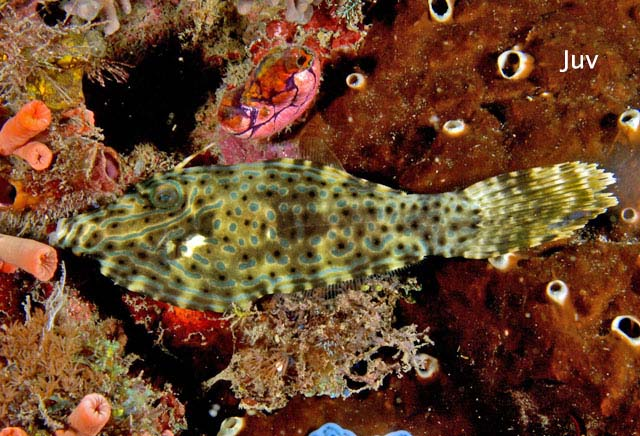Aluterus_scriptus: (42, 158, 622, 316)
